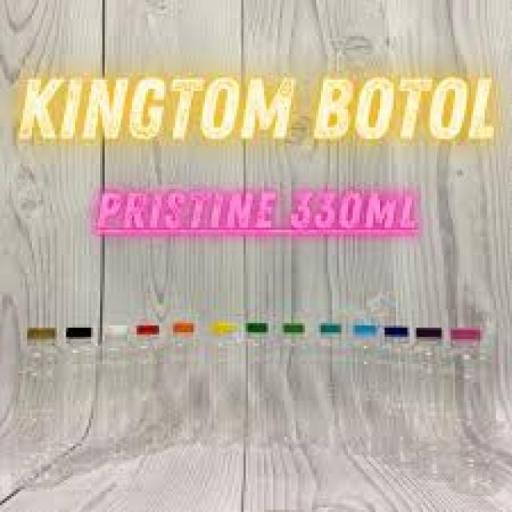plastic: (442, 322, 499, 492), (340, 313, 398, 480), (260, 316, 326, 460), (86, 316, 142, 485), (8, 323, 63, 494), (50, 321, 107, 486), (406, 322, 460, 484), (120, 310, 173, 472), (301, 314, 355, 465), (200, 312, 254, 460), (234, 316, 284, 462), (374, 324, 423, 471), (160, 318, 210, 462)
